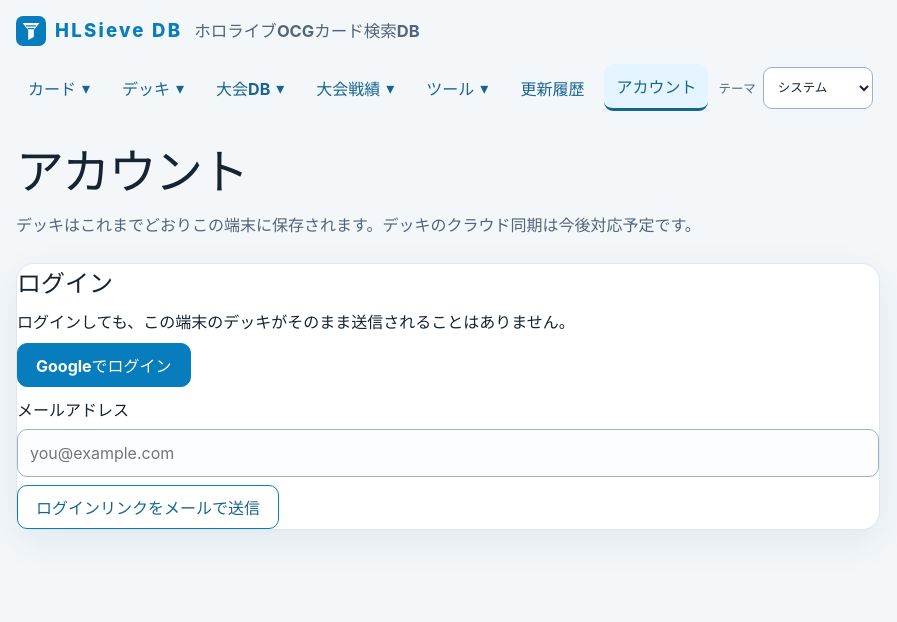
Test: account page while signed out › reports a generic failure without exposing provider detail
Expected: the heading "ログイン" is shown, [17,269,113,298]
Click the button "Googleでログイン". click: x=104, y=365
box: [17,343,191,387]
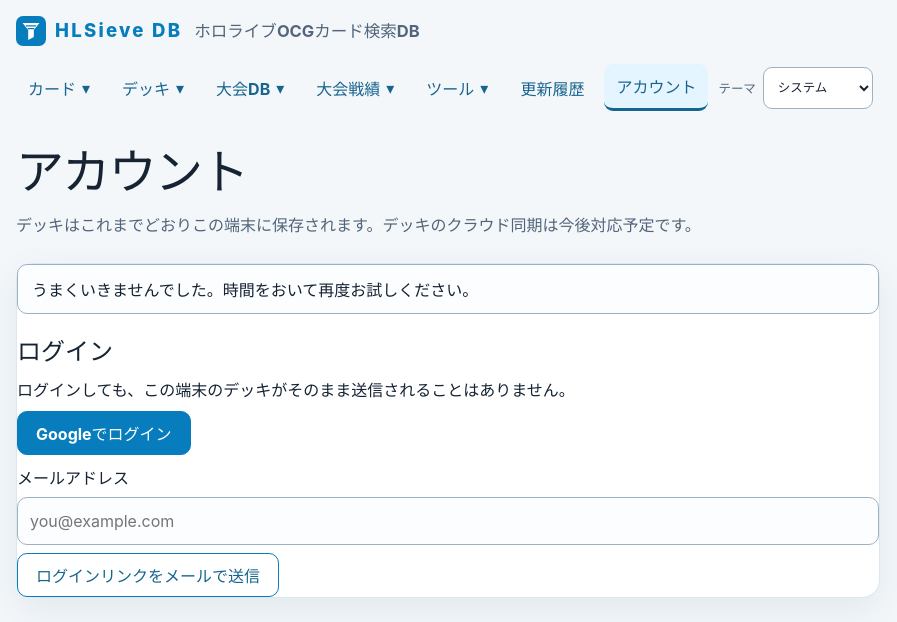
Now the message shows "うまくいきませんでした", box [32,280,478,300]
